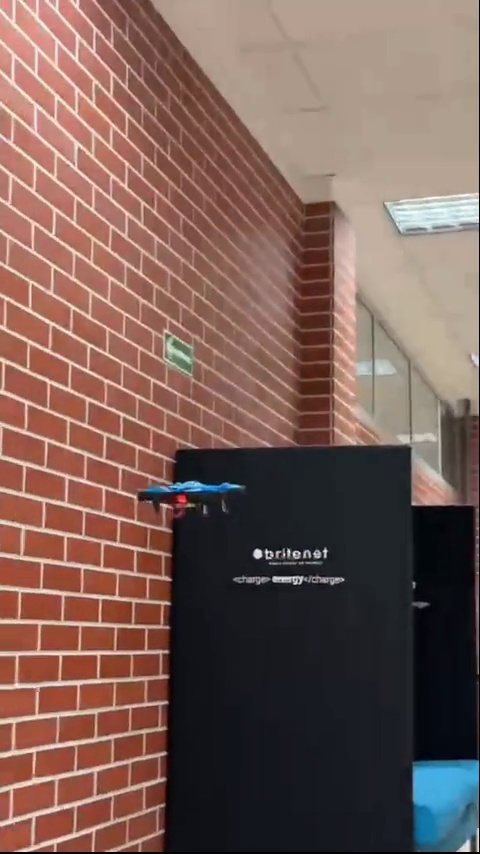drone: (136, 481, 246, 518)
